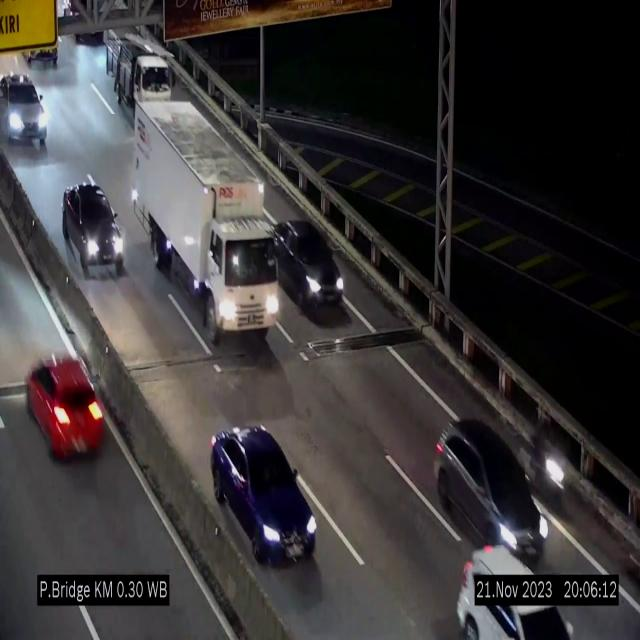Car: (433, 410, 550, 564), (211, 426, 317, 563), (457, 551, 577, 640), (28, 353, 106, 475), (271, 217, 347, 317), (60, 175, 128, 278), (0, 68, 51, 156)
Motorcycle: (532, 416, 565, 511)
Truck: (132, 100, 276, 348), (106, 28, 174, 112)
